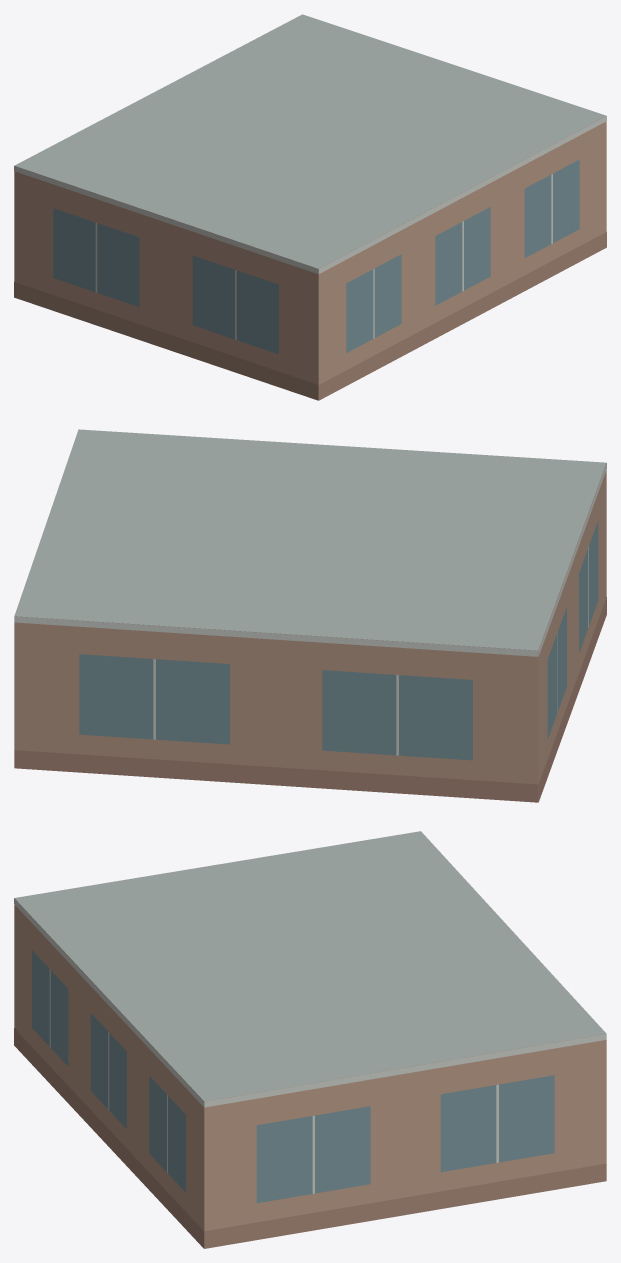
The model's file is survey-upis-32818123.glb.
3 renders of one model, top to bottom at view 1: azimuth 30°, elevation 25°; view 2: azimuth 150°, elevation 25°; view 3: azimuth 270°, elevation 25°, orthographic. The views are drawn at different scales.
Visible parts, largest first — view 1: survey-upis-32818123.tmp; view 2: survey-upis-32818123.tmp; view 3: survey-upis-32818123.tmp.
Boxes of the visible parts, x1=… form: survey-upis-32818123.tmp: x1=14, y1=14, x2=606, y2=400; survey-upis-32818123.tmp: x1=14, y1=429, x2=606, y2=802; survey-upis-32818123.tmp: x1=14, y1=831, x2=606, y2=1248.
Bounding box in the file's own units: 12.02 × 3.05 × 11.13.
